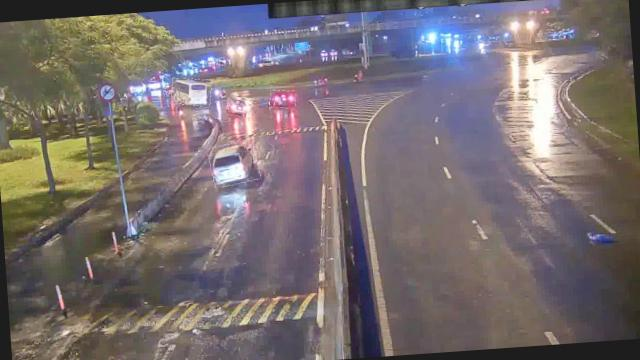Bus: (170, 76, 212, 108)
Car: (206, 140, 258, 186), (268, 88, 296, 109), (226, 96, 252, 118)
